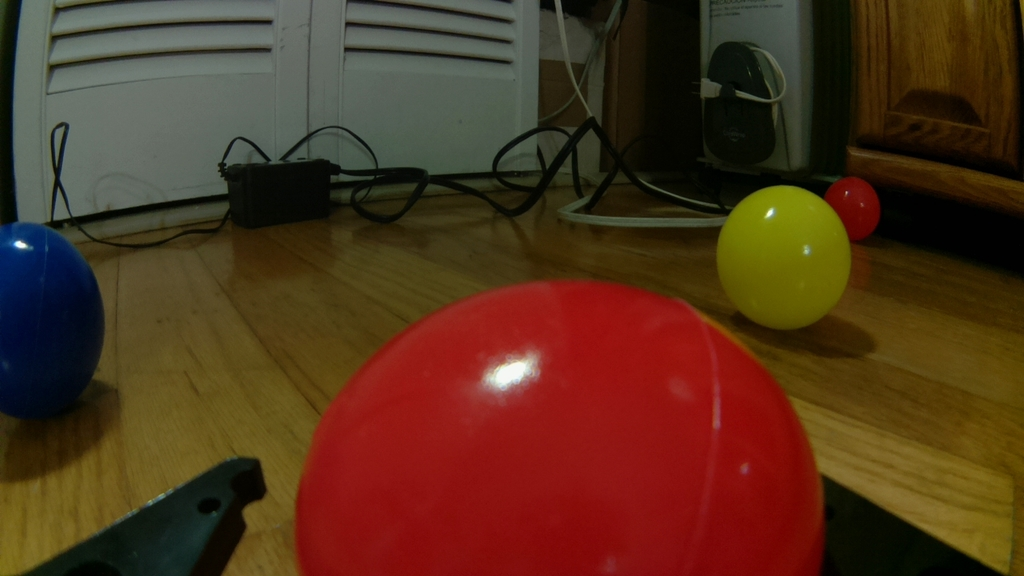ball: (0, 218, 106, 424)
